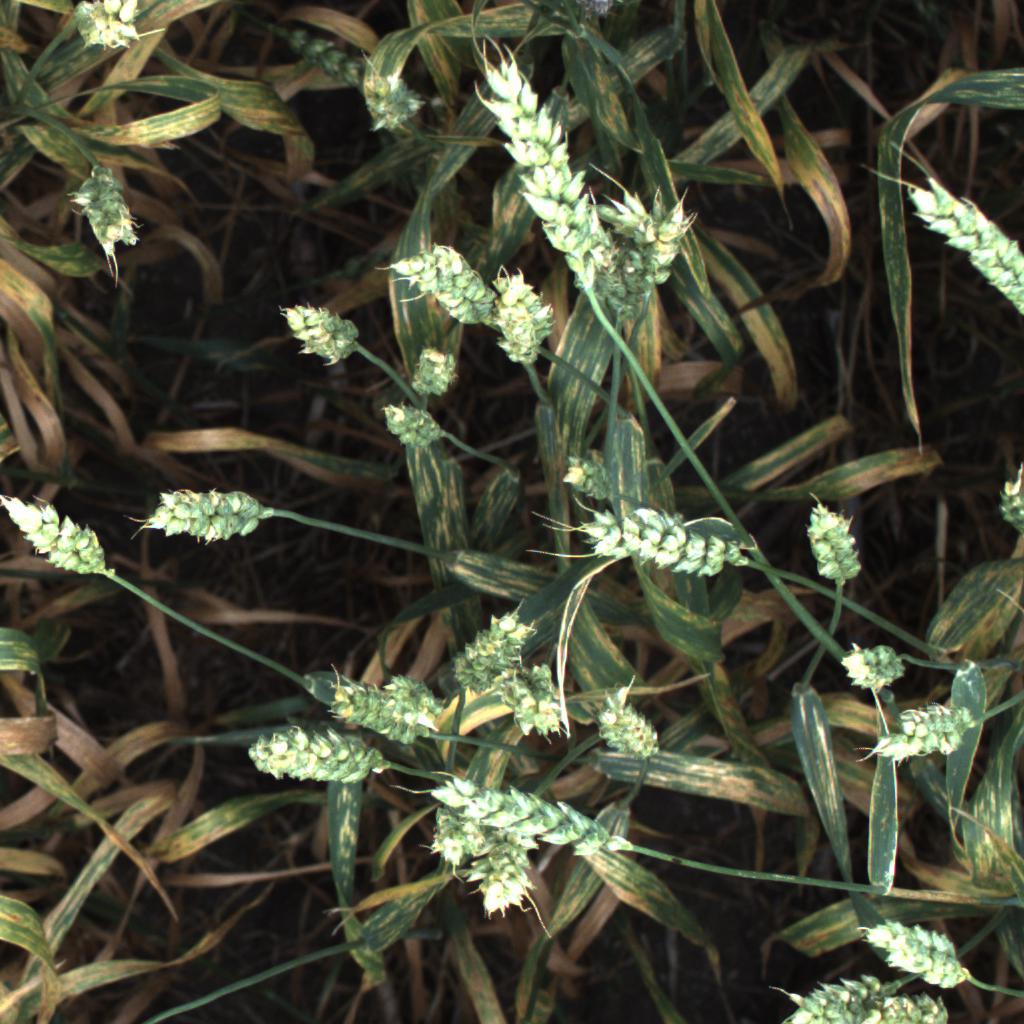0-0: (457, 35, 623, 307), (898, 159, 1024, 337), (416, 769, 640, 865), (578, 502, 758, 584), (235, 717, 397, 798), (0, 485, 119, 588), (852, 908, 988, 995), (450, 598, 547, 703), (390, 240, 500, 330), (457, 814, 545, 924), (269, 289, 372, 379), (64, 155, 146, 263), (770, 966, 912, 1024), (422, 774, 495, 881), (137, 485, 264, 546), (589, 680, 675, 770), (640, 184, 706, 301), (491, 663, 584, 746), (489, 260, 556, 373), (322, 684, 439, 748), (599, 192, 652, 324), (798, 487, 863, 594), (60, 0, 163, 66), (831, 633, 931, 699), (861, 706, 977, 760), (394, 332, 474, 408), (367, 398, 459, 463), (351, 56, 428, 129), (376, 667, 457, 732), (552, 444, 624, 510), (978, 460, 1024, 540), (853, 992, 960, 1024), (916, 695, 999, 726)
